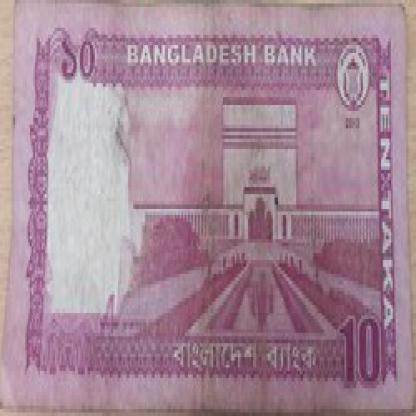Ten Taka: (334, 302, 383, 395), (57, 31, 108, 90)
